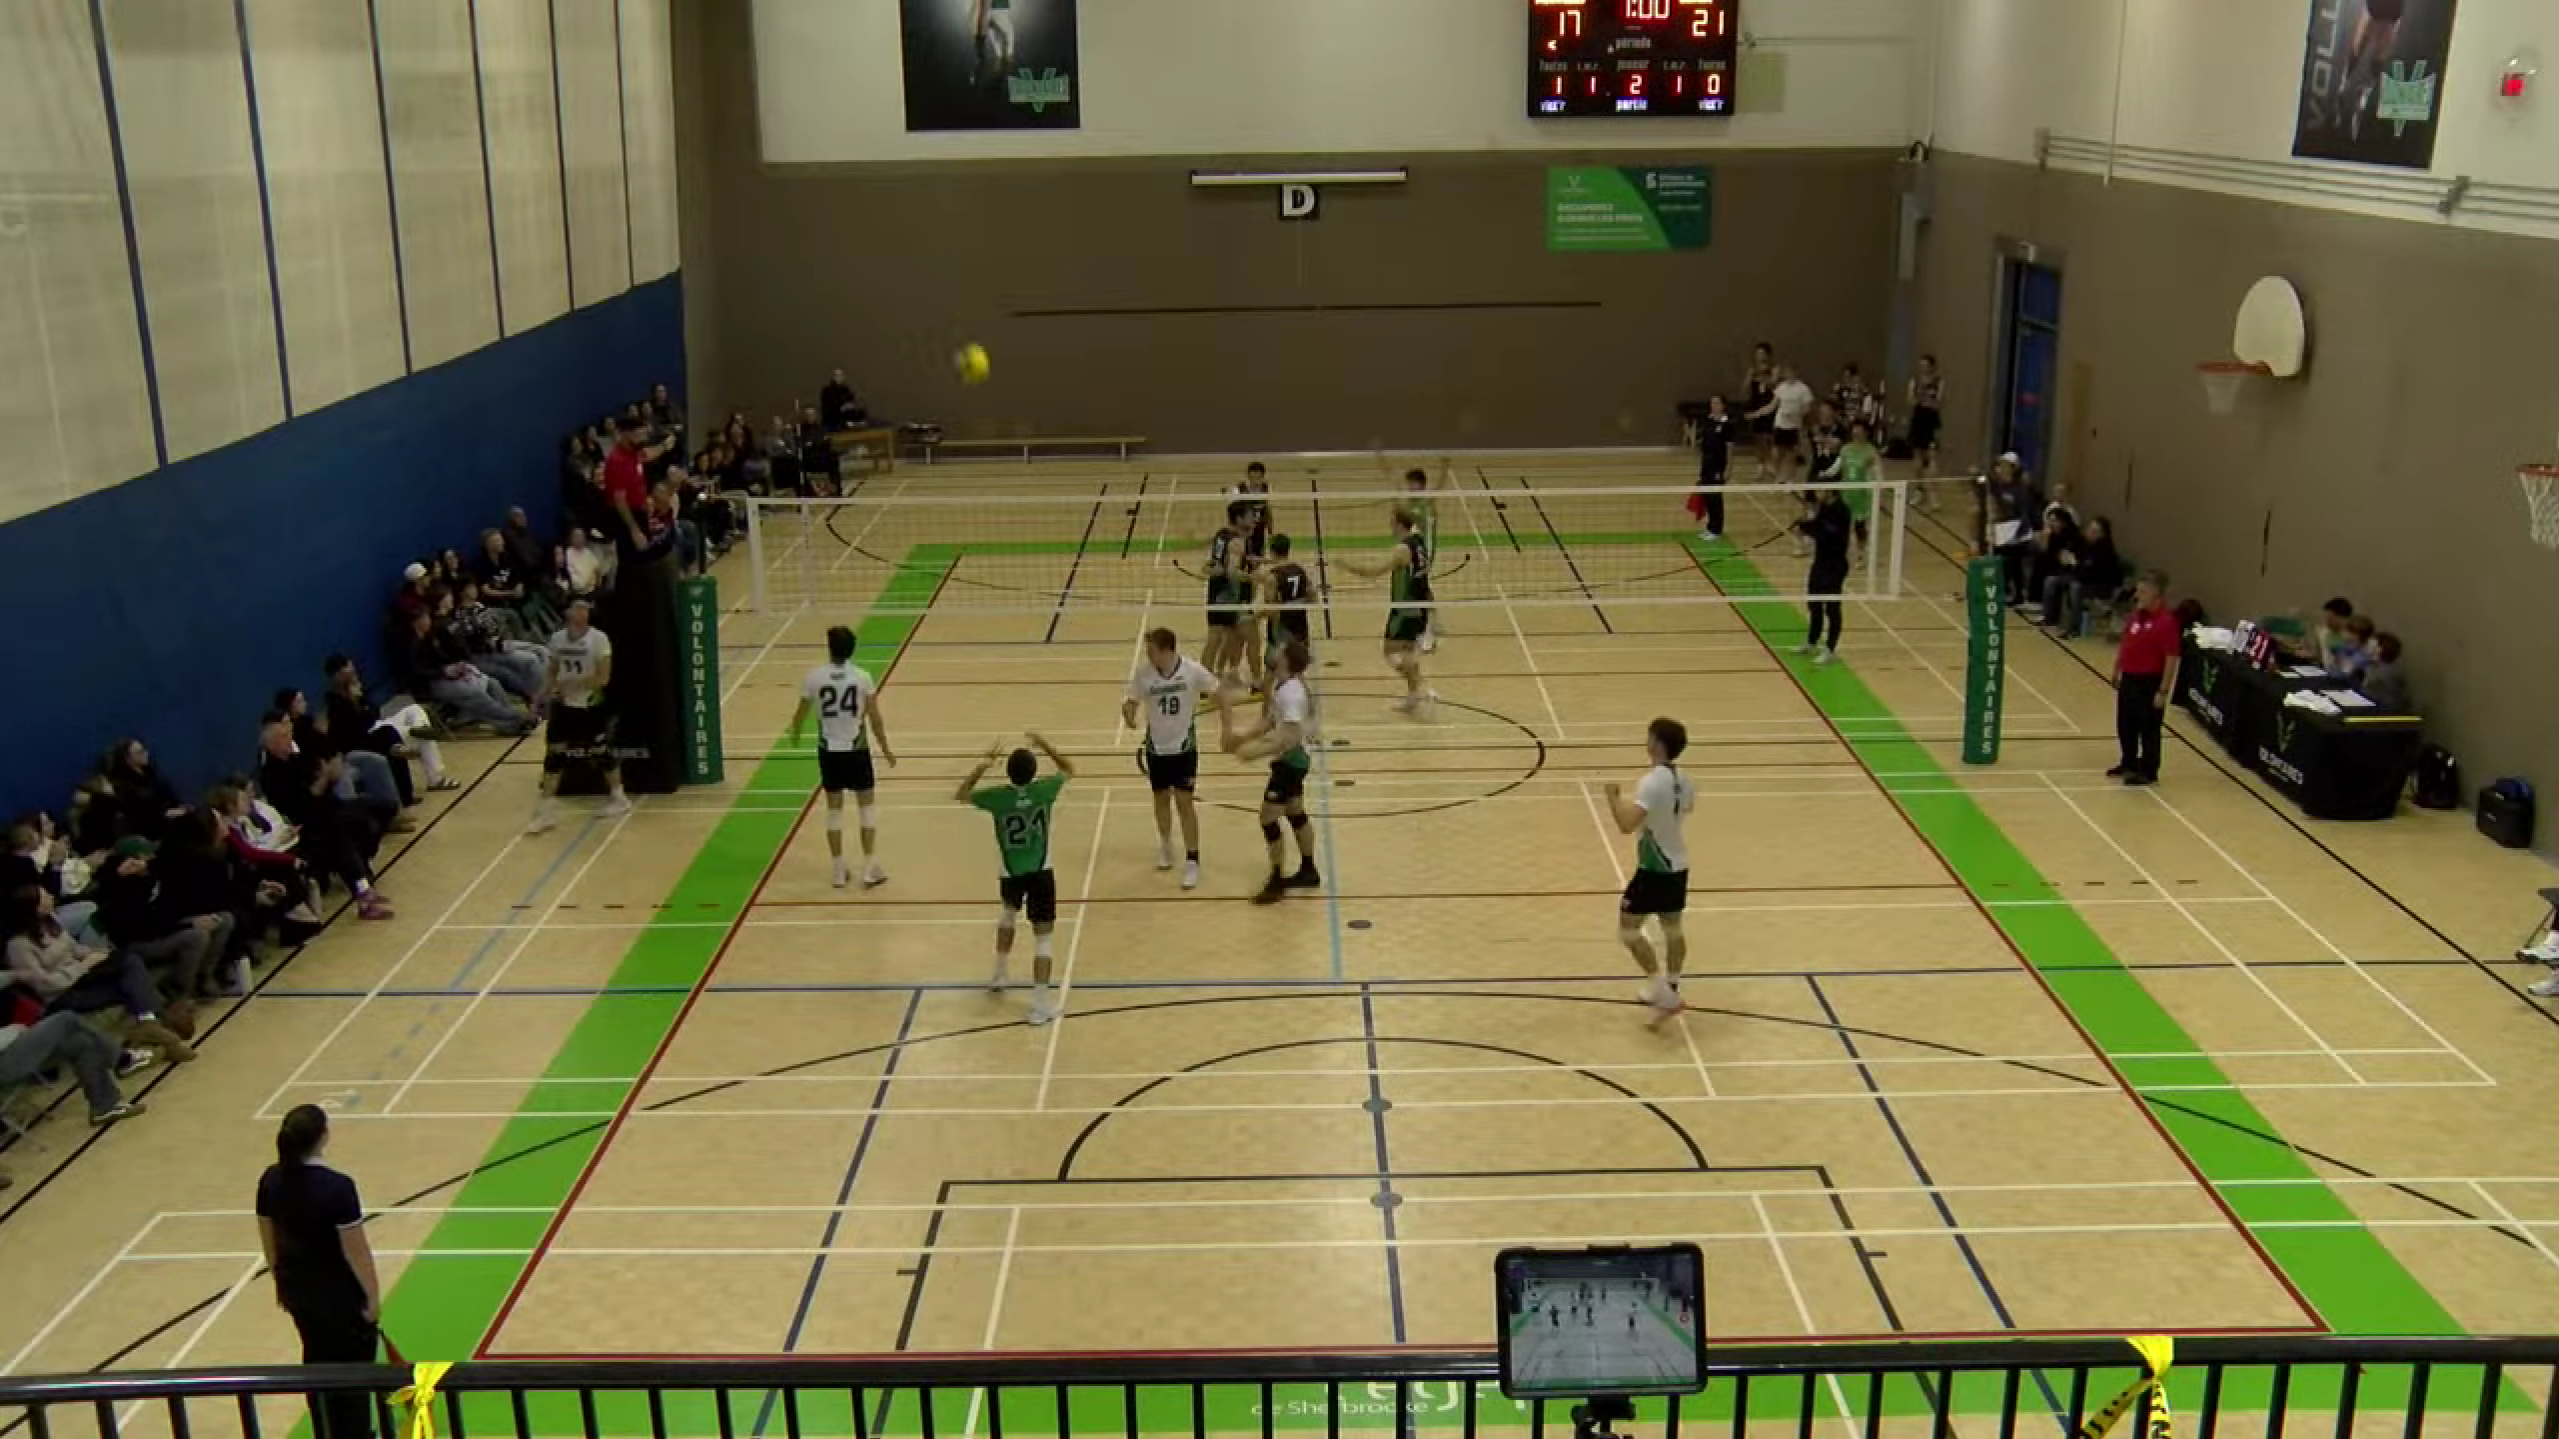Ball: (949, 339, 993, 388)
